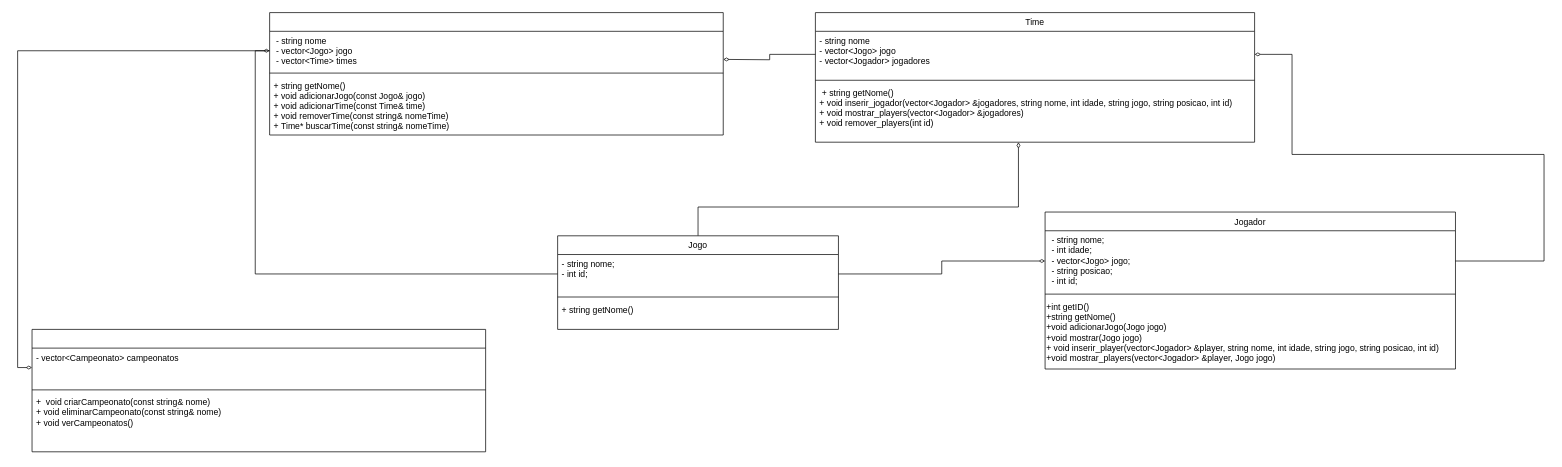
This 1562x467 diagram has some shape labels left out. Here are the shapes that lost their labels. From the top down, the box of each, then its label:
(269, 12, 723, 135): Campeonato
(31, 329, 486, 452): Plataforma
